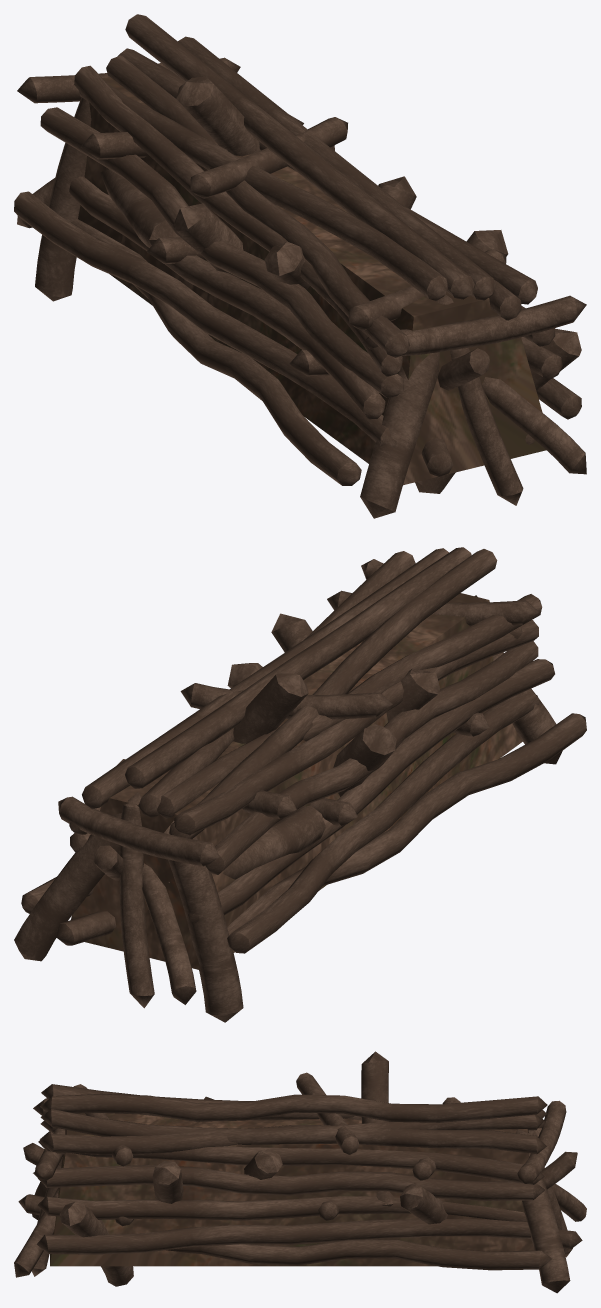
File: BeaverDam.fbx
3 renders of one model, top to bottom at view 1: azimuth 30°, elevation 25°; view 2: azimuth 150°, elevation 25°; view 3: azimuth 270°, elevation 25°, orthographic. The views are drawn at different scales.
Parts seen in each view (by area): view 1: Object001, Box001; view 2: Object001, Box001; view 3: Object001, Box001.
Boxes of the visible parts, x1=… form: Object001: x1=14, y1=14, x2=586, y2=518; Box001: x1=78, y1=69, x2=545, y2=485; Object001: x1=14, y1=547, x2=586, y2=1022; Box001: x1=71, y1=593, x2=522, y2=970; Object001: x1=14, y1=1051, x2=586, y2=1293; Box001: x1=50, y1=1113, x2=534, y2=1266.
Size of the model in its own units: 17.86 by 18.77 by 46.42.
2 materials, 2 textured.
